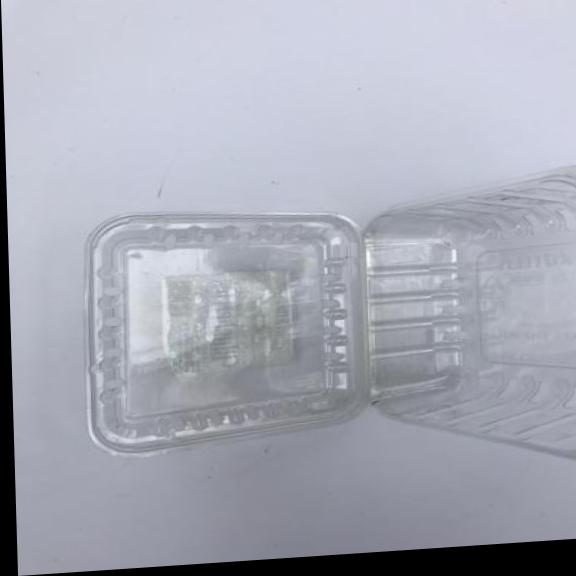Plastik: (78, 194, 379, 464), (356, 164, 576, 482)
